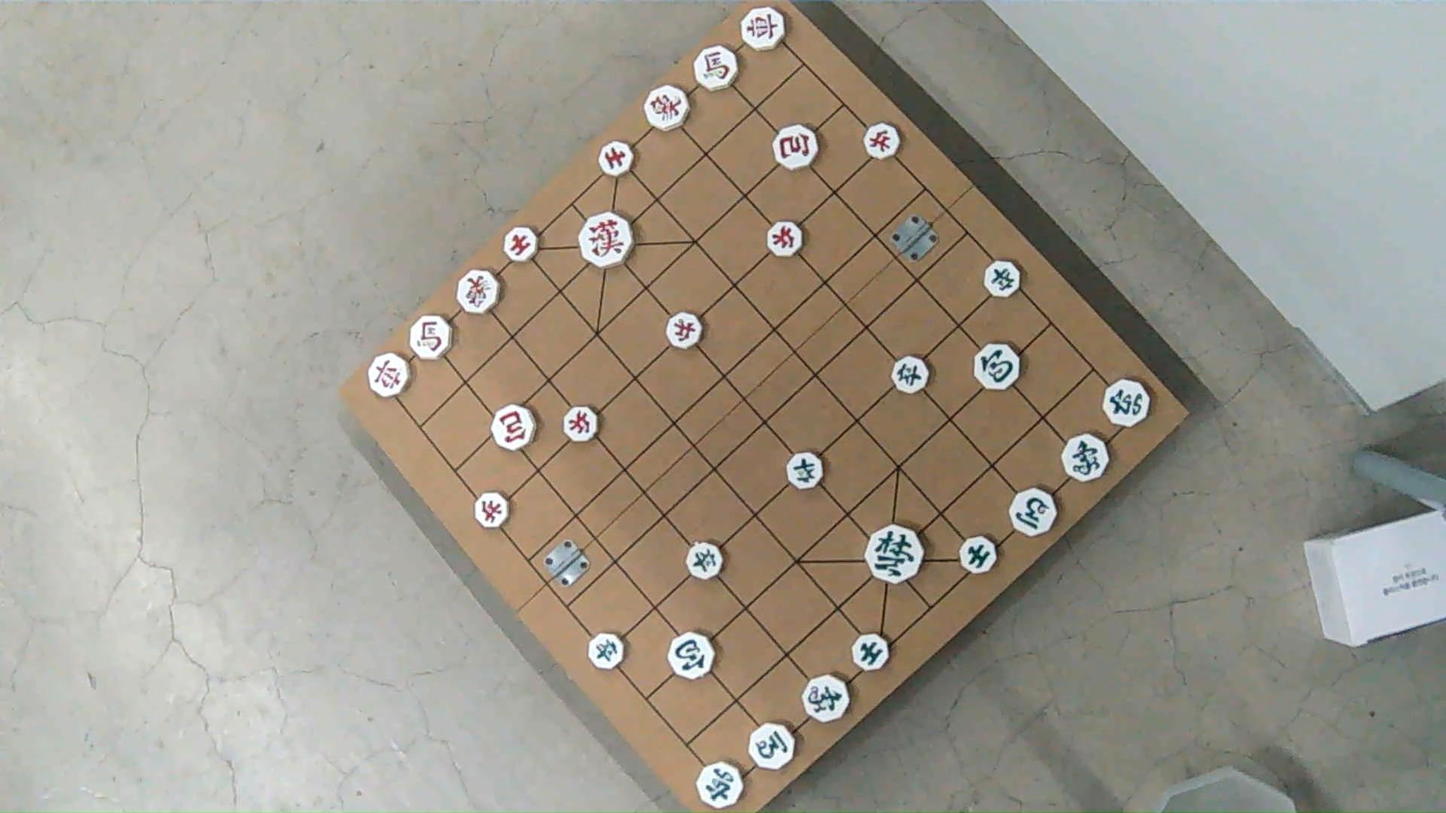cha_green: (695, 760, 743, 808), (1103, 379, 1150, 428)
cha_red: (743, 7, 789, 51), (371, 353, 413, 397)
jol_green: (590, 632, 629, 670), (892, 355, 930, 393), (683, 541, 721, 579), (787, 451, 824, 489), (987, 260, 1023, 297)
jol_red: (664, 315, 702, 351), (564, 407, 600, 443), (475, 492, 511, 528), (862, 126, 899, 161), (769, 221, 805, 256)
ma_green: (1009, 487, 1058, 535), (749, 722, 798, 769)
ma_red: (694, 47, 738, 92), (410, 317, 453, 360)
po_green: (667, 631, 715, 679), (973, 345, 1020, 391)
po_red: (494, 404, 539, 449), (773, 126, 819, 170)
sa_green: (959, 537, 998, 574), (854, 634, 891, 672)
sa_red: (506, 228, 541, 263), (598, 141, 633, 175)
sang_green: (801, 675, 849, 723), (1063, 434, 1110, 482)
sang_red: (643, 86, 689, 131), (457, 269, 501, 314)
wang_green: (866, 525, 923, 584)
wang_red: (582, 215, 634, 268)
